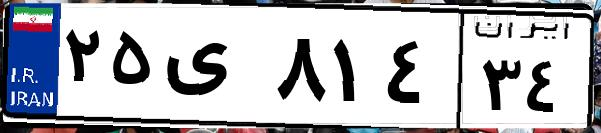1: (330, 28, 385, 110)
2: (57, 26, 110, 100)
3: (475, 38, 525, 113)
4: (385, 28, 445, 110), (525, 38, 570, 115)
5: (110, 28, 158, 98)
8: (270, 28, 330, 110)
ی: (158, 20, 270, 120)
